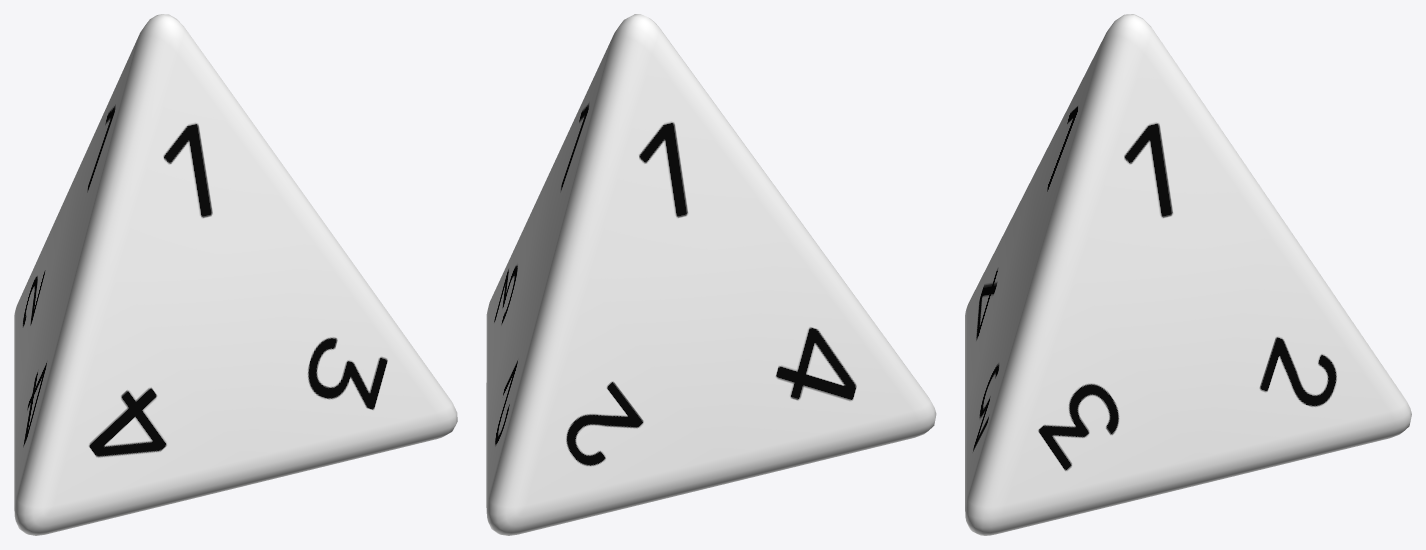
File: D4_Vol.FBX
The picture shows the model from 3 angles, left to right: view 1: azimuth 30°, elevation 25°; view 2: azimuth 150°, elevation 25°; view 3: azimuth 270°, elevation 25°; orthographic projection.
Parts seen in each view (by area): view 1: Dado4Numb; view 2: Dado4Numb; view 3: Dado4Numb.
Part boxes in pixels (x1,y1,x2,y2): Dado4Numb: (14,14,457,535); Dado4Numb: (486,14,936,535); Dado4Numb: (965,14,1411,535).
Size of the model in its own units: 248 by 227 by 218.
